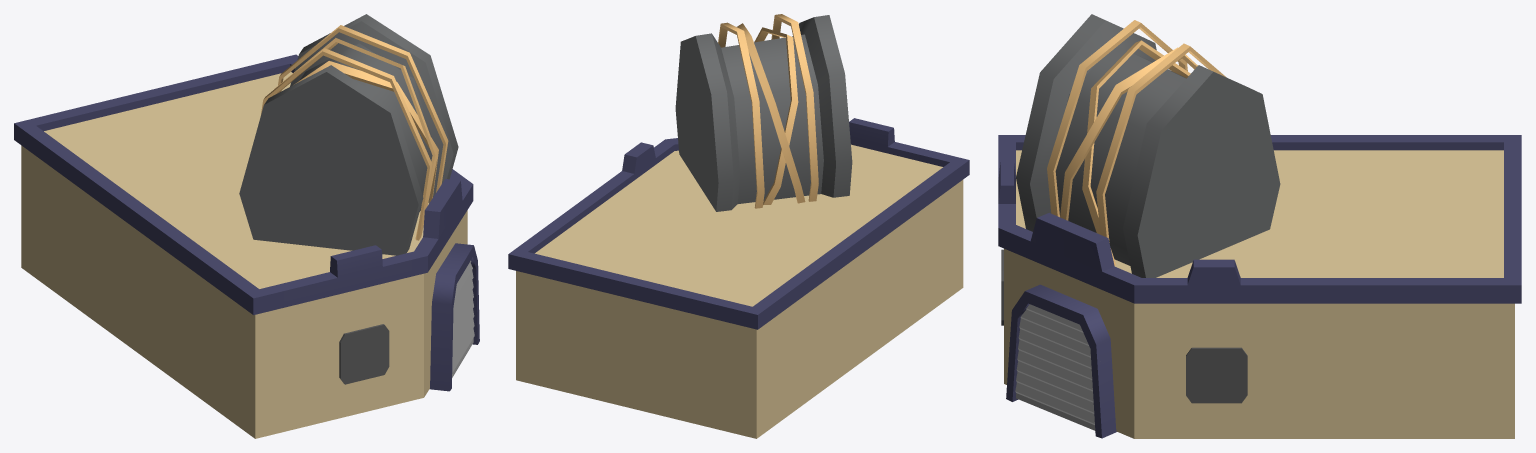
File: West_House_07.fbx
3 renders of one model, left to right at view 1: azimuth 30°, elevation 25°; view 2: azimuth 150°, elevation 25°; view 3: azimuth 270°, elevation 25°, orthographic. The views are drawn at different scales.
Parts seen in each view (by area): view 1: West_House_07; view 2: West_House_07; view 3: West_House_07.
Part boxes in pixels (x1,y1,x2,y2): West_House_07: (14,14,479,438); West_House_07: (508,14,969,438); West_House_07: (998,14,1521,438).
Size of the model in its own units: 23.81 by 25.35 by 35.01.
